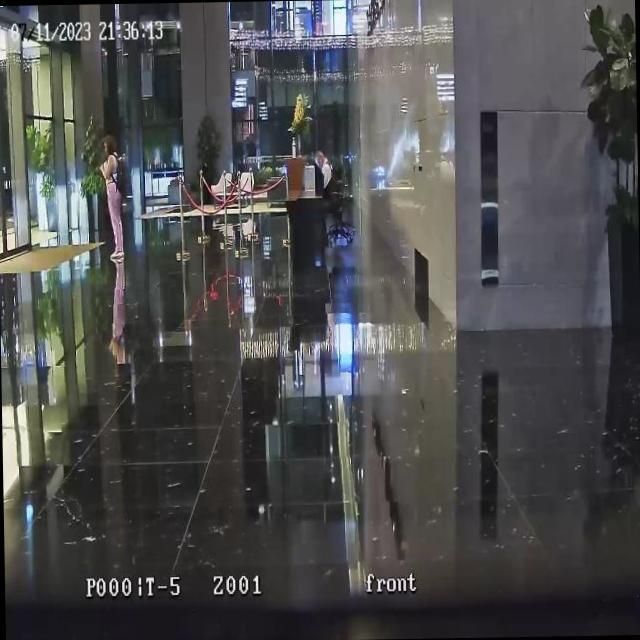person: (99, 136, 127, 262), (315, 151, 338, 211)
